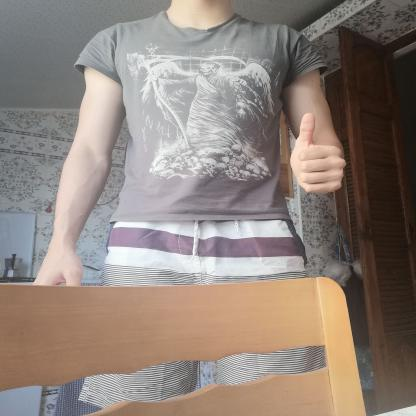ALIF: (275, 101, 358, 204)
